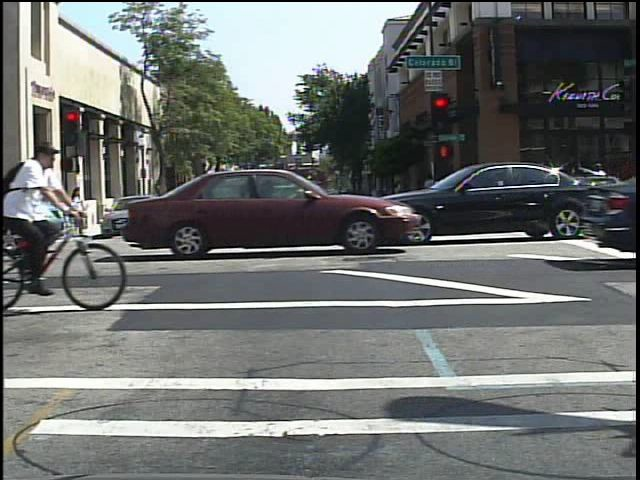person: (0, 126, 75, 305), (591, 158, 617, 223)
